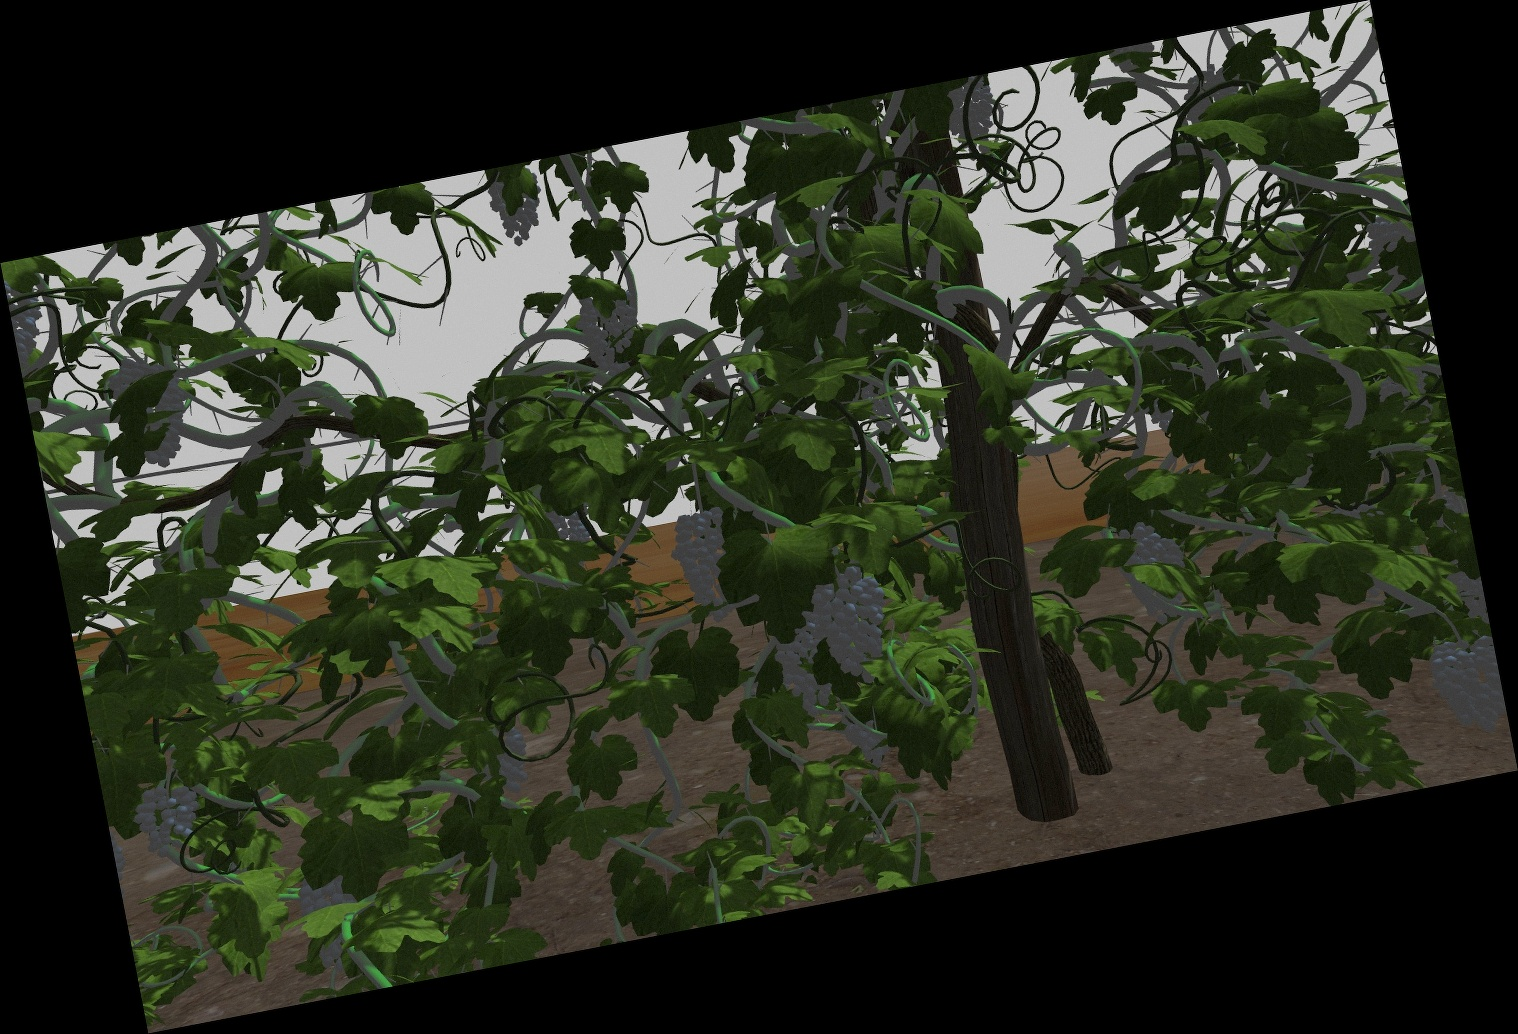grape: (817, 565, 890, 677), (117, 358, 186, 469), (1124, 520, 1189, 622), (670, 510, 730, 607), (777, 614, 831, 715), (1431, 640, 1495, 721), (576, 290, 639, 364), (137, 781, 197, 859), (487, 173, 540, 245), (946, 84, 999, 149)
